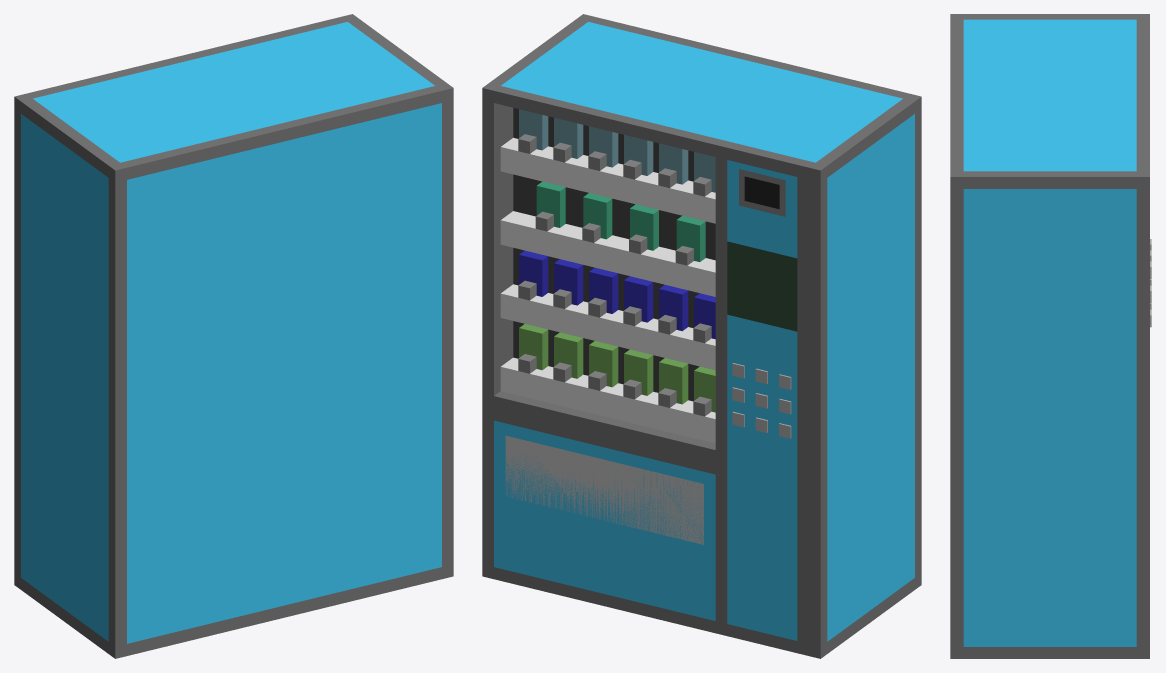
File: vending__0b4c70c0d73d.glb
3 views of the same model, side by side, from view 1: azimuth 30°, elevation 25°; view 2: azimuth 150°, elevation 25°; view 3: azimuth 270°, elevation 25° (orthographic).
Parts seen in each view (by area): view 1: back_panel.001, side_panel.001, frame, top_panel; view 2: frame, side_panel.001, top_panel, lower_blue, blue_panel, outlet_inset, dark_back, shelf.002, shelf, shelf.001, shelf.003, control_band (+23 smaller); view 3: side_panel, top_panel, frame.
Part boxes in pixels (box(x1,y1,x2,y2)): back_panel.001: box(127, 103, 441, 643); side_panel.001: box(21, 114, 108, 641); frame: box(14, 14, 453, 658); top_panel: box(33, 22, 434, 162); frame: box(482, 14, 921, 658); side_panel.001: box(827, 114, 914, 641); top_panel: box(501, 22, 902, 162); lower_blue: box(494, 420, 715, 620); blue_panel: box(727, 160, 797, 640); outlet_inset: box(505, 435, 703, 544); dark_back: box(513, 108, 715, 401); shelf.002: box(500, 211, 715, 296); shelf: box(500, 357, 715, 443); shelf.001: box(500, 284, 715, 370); shelf.003: box(500, 137, 715, 223); control_band: box(727, 241, 797, 331); side_panel: box(963, 189, 1136, 646); top_panel: box(963, 19, 1136, 171); frame: box(950, 14, 1149, 658).
Size of the model in its own units: 1.31 by 1.8 by 0.681.
